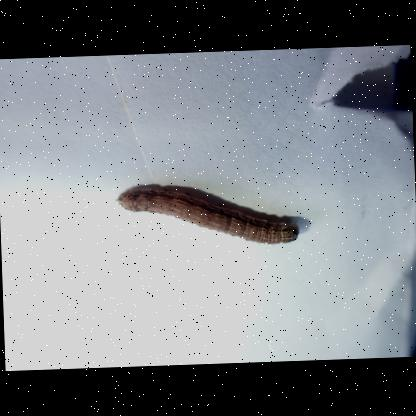Fall Armyworm Larvae: (114, 178, 303, 254)
